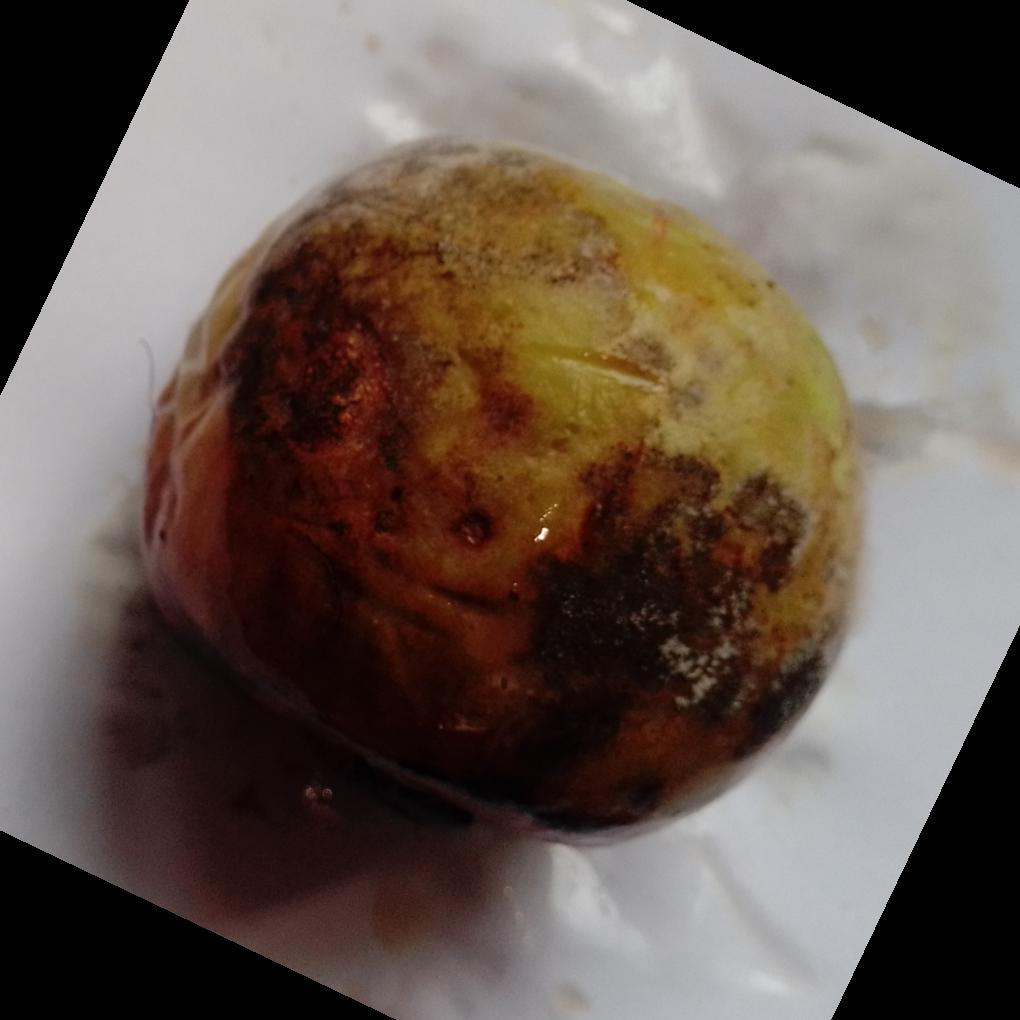FreshOrange: (135, 138, 867, 844)
